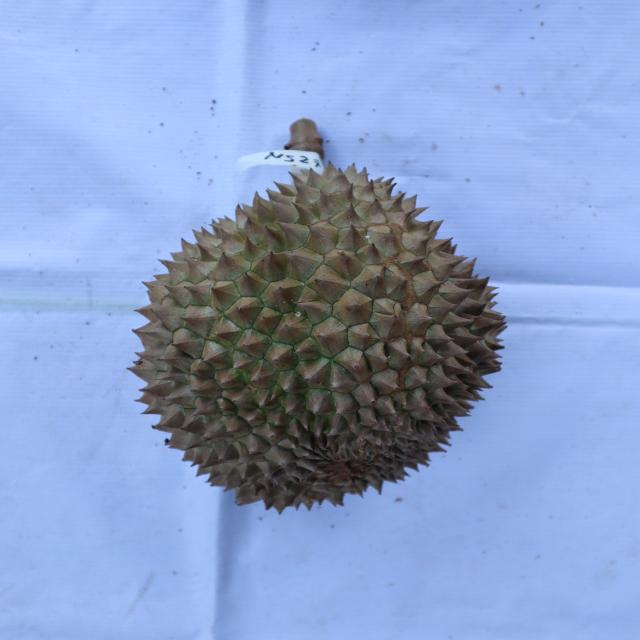mature: (132, 166, 511, 513)
